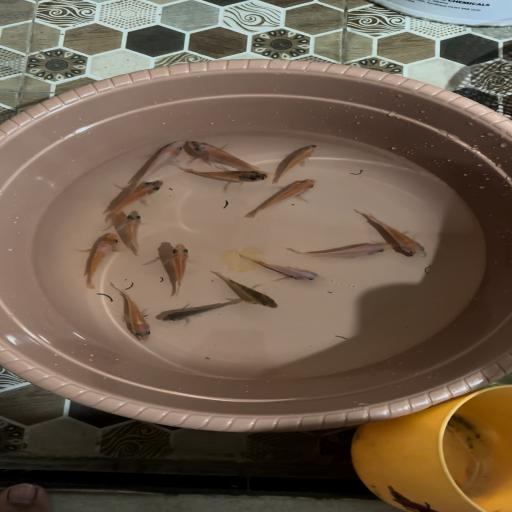nila: (350, 209, 444, 260), (99, 281, 157, 343), (234, 249, 327, 285), (242, 180, 316, 222), (98, 180, 168, 224), (210, 270, 286, 310), (129, 136, 188, 186), (156, 298, 241, 331), (299, 236, 392, 264), (179, 140, 264, 169), (80, 233, 122, 287), (274, 140, 322, 184), (110, 208, 155, 253), (163, 240, 195, 296), (178, 167, 268, 183)
